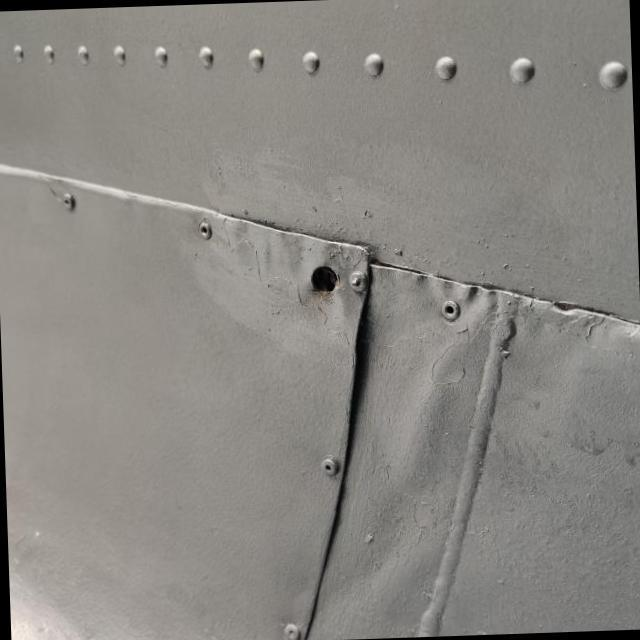Fastener Damage: (271, 204, 404, 343)
